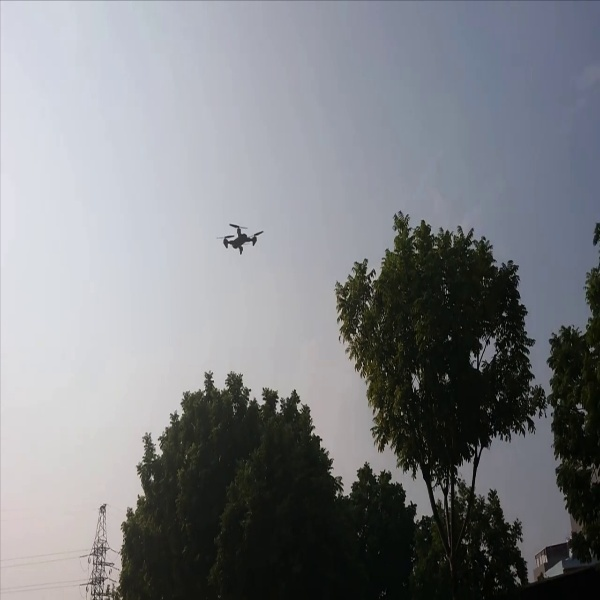drone: (216, 213, 269, 269)
